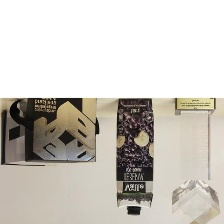carton: (111, 96, 155, 217)
